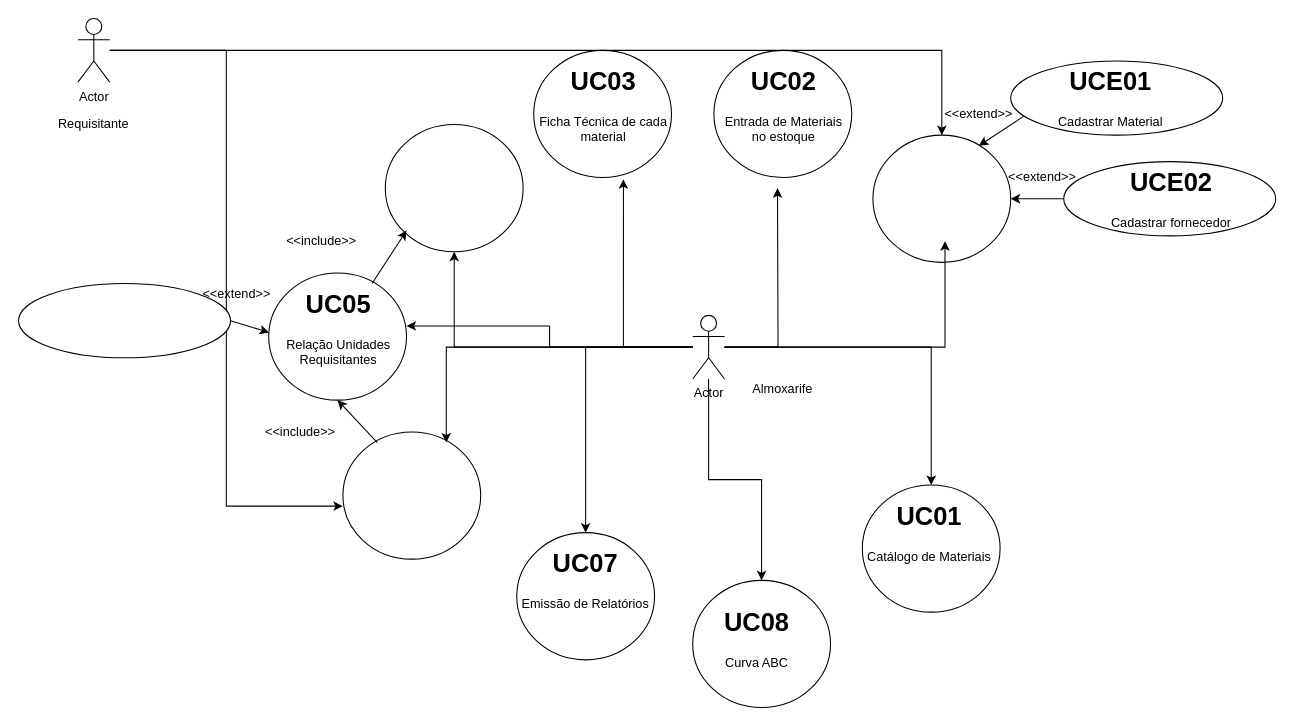
The diagram is 1294 pixels wide and 726 high, and some of its shapes have lost their labels. The shapes that lost their labels are listed below. From the top down, each one's centre as x and y in pixels, then its label:
At point 453,187: "UC04 Controle de Materiais no estoque".
At point 941,198: "UC01 Controle de Materiais".
At point 124,320: "EUC03 Cadastrar Unidade".
At point 411,495: "UC06 Saída de Materiais do estoque".
